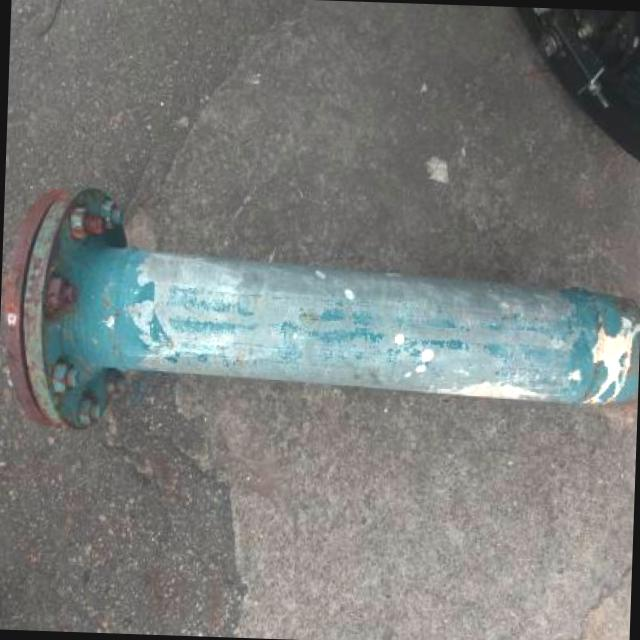gas: (88, 248, 640, 404)
